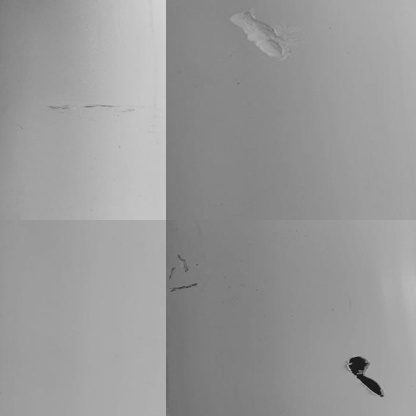kongdong: (348, 350, 381, 397)
sunshang: (229, 10, 293, 65)
